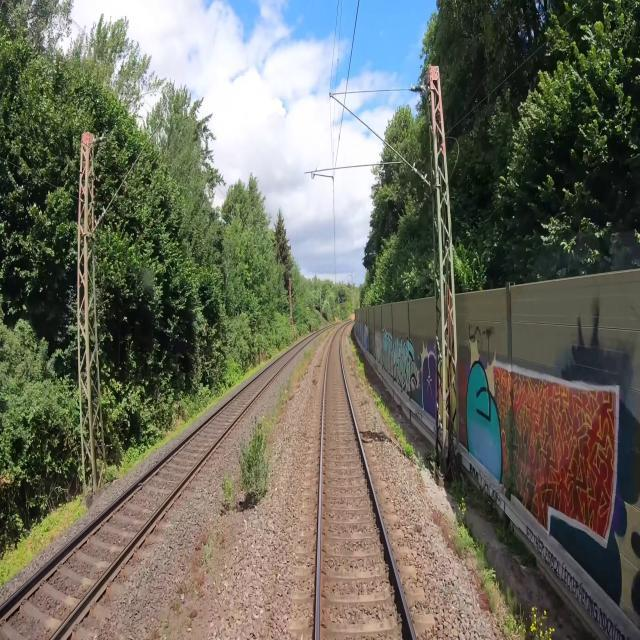Plant: (234, 407, 282, 510), (279, 326, 336, 407), (189, 526, 226, 599), (218, 474, 234, 515), (172, 597, 184, 619), (159, 609, 170, 628), (147, 627, 162, 639), (178, 581, 187, 595), (188, 609, 198, 619)
